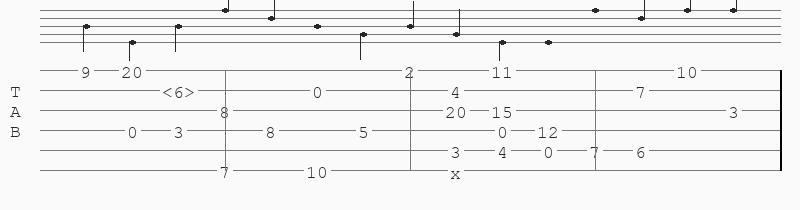0: (127, 123, 142, 138), (312, 83, 327, 98), (497, 123, 512, 138), (543, 143, 558, 158)
10: (306, 163, 332, 178), (676, 63, 702, 78)
11: (491, 63, 517, 78)
12: (537, 123, 563, 138)
15: (491, 103, 517, 118)
2: (404, 63, 419, 78)
20: (121, 63, 147, 78), (445, 103, 471, 118)
3: (173, 123, 188, 138), (450, 143, 465, 158), (728, 103, 743, 118)
4: (450, 83, 465, 98), (497, 143, 512, 158)
5: (358, 123, 373, 138)
6: (635, 143, 650, 158)
7: (219, 163, 234, 178), (589, 143, 604, 158), (635, 83, 650, 98)
8: (219, 103, 234, 118), (265, 123, 280, 138)
9: (80, 63, 95, 78)
harmonic: (162, 83, 199, 98)
x: (450, 164, 465, 176)
